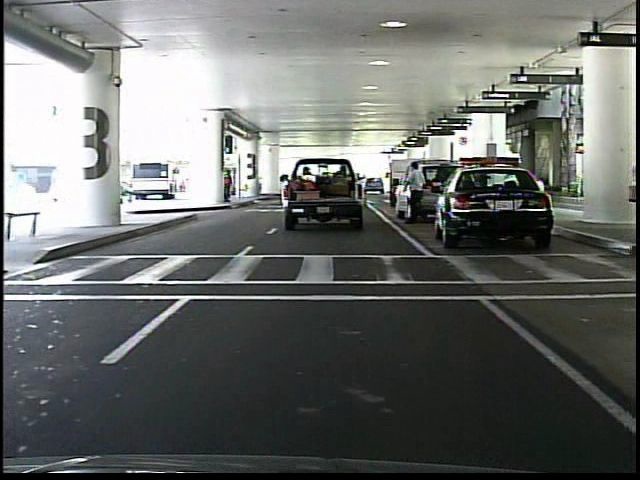person: (621, 146, 640, 240), (405, 158, 429, 227), (223, 161, 237, 203)
